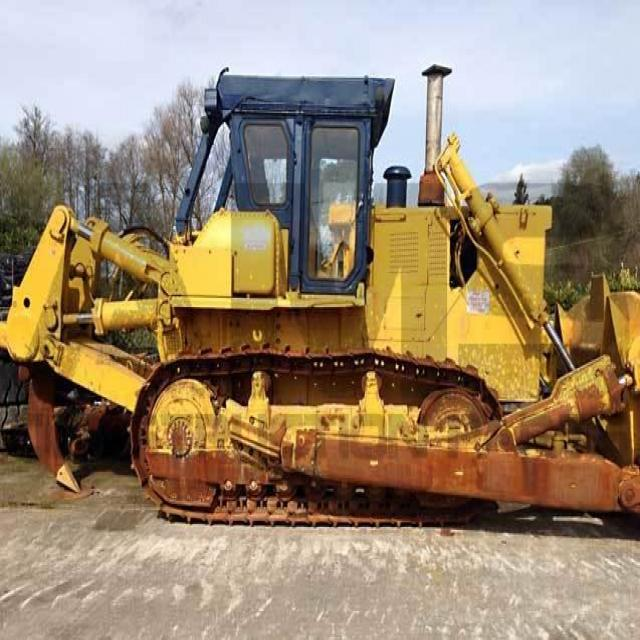Bulldozer: (24, 46, 639, 564)
